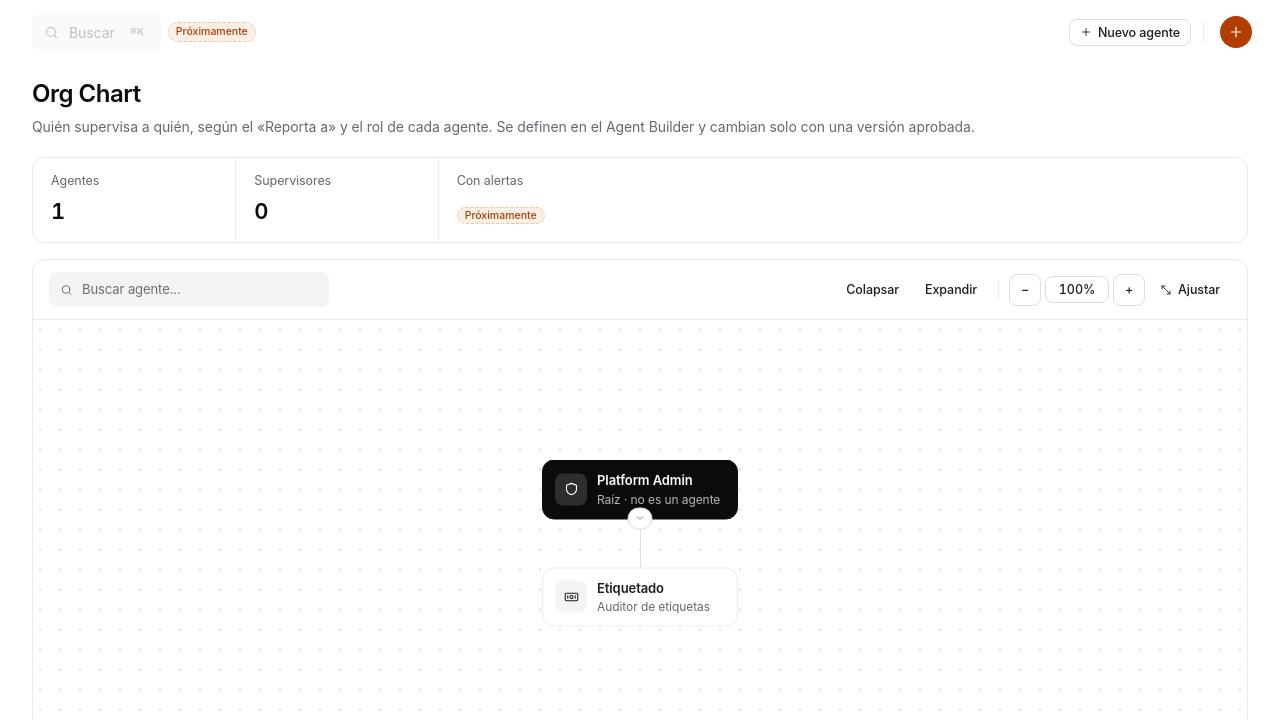
Test: OrgChartPage › tells who sees an agent they cannot use why, and who uses it (creator: true, may edit: false)
Click the button with aria-label "Etiquetado, Auditor de etiquetas" at (640, 597), box [543, 568, 737, 626]
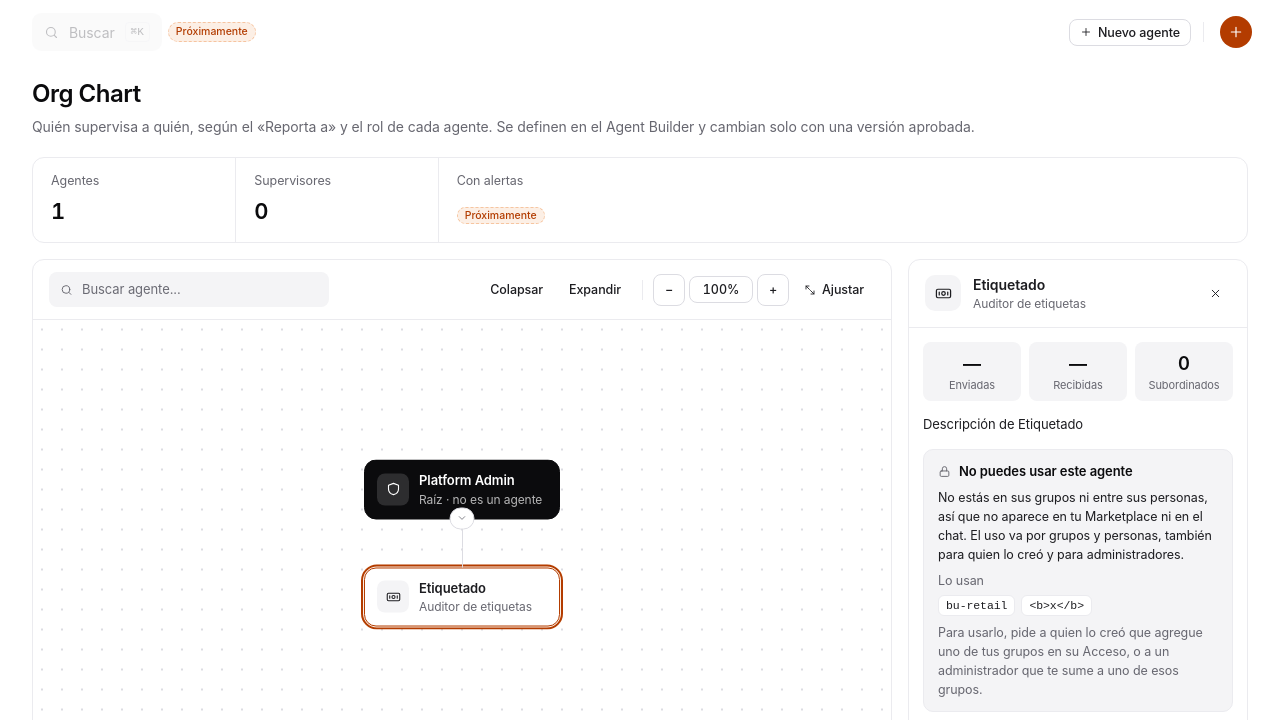
Result: the element that starts with "No puedes usar este agente" is shown at [959, 463, 1133, 479]
Result: the element that starts with "No puedes usar este agente" shows "No estás en sus grupos ni entre sus personas, así que no aparece en tu Marketplace ni en el chat. El uso va por grupos y personas, también para quien lo creó y" at [938, 490, 1212, 562]
Result: the text with class "oc-nouse-how" shows "Para usarlo, pide a quien lo creó que agregue uno de tus grupos en su Acceso, o a un administrador que te sume a uno de esos grupos." at [938, 625, 1203, 697]
